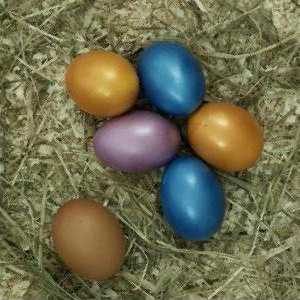egg: (50, 199, 125, 281), (160, 155, 226, 241), (96, 110, 182, 174), (186, 101, 263, 172), (138, 41, 206, 116), (66, 51, 138, 118)
